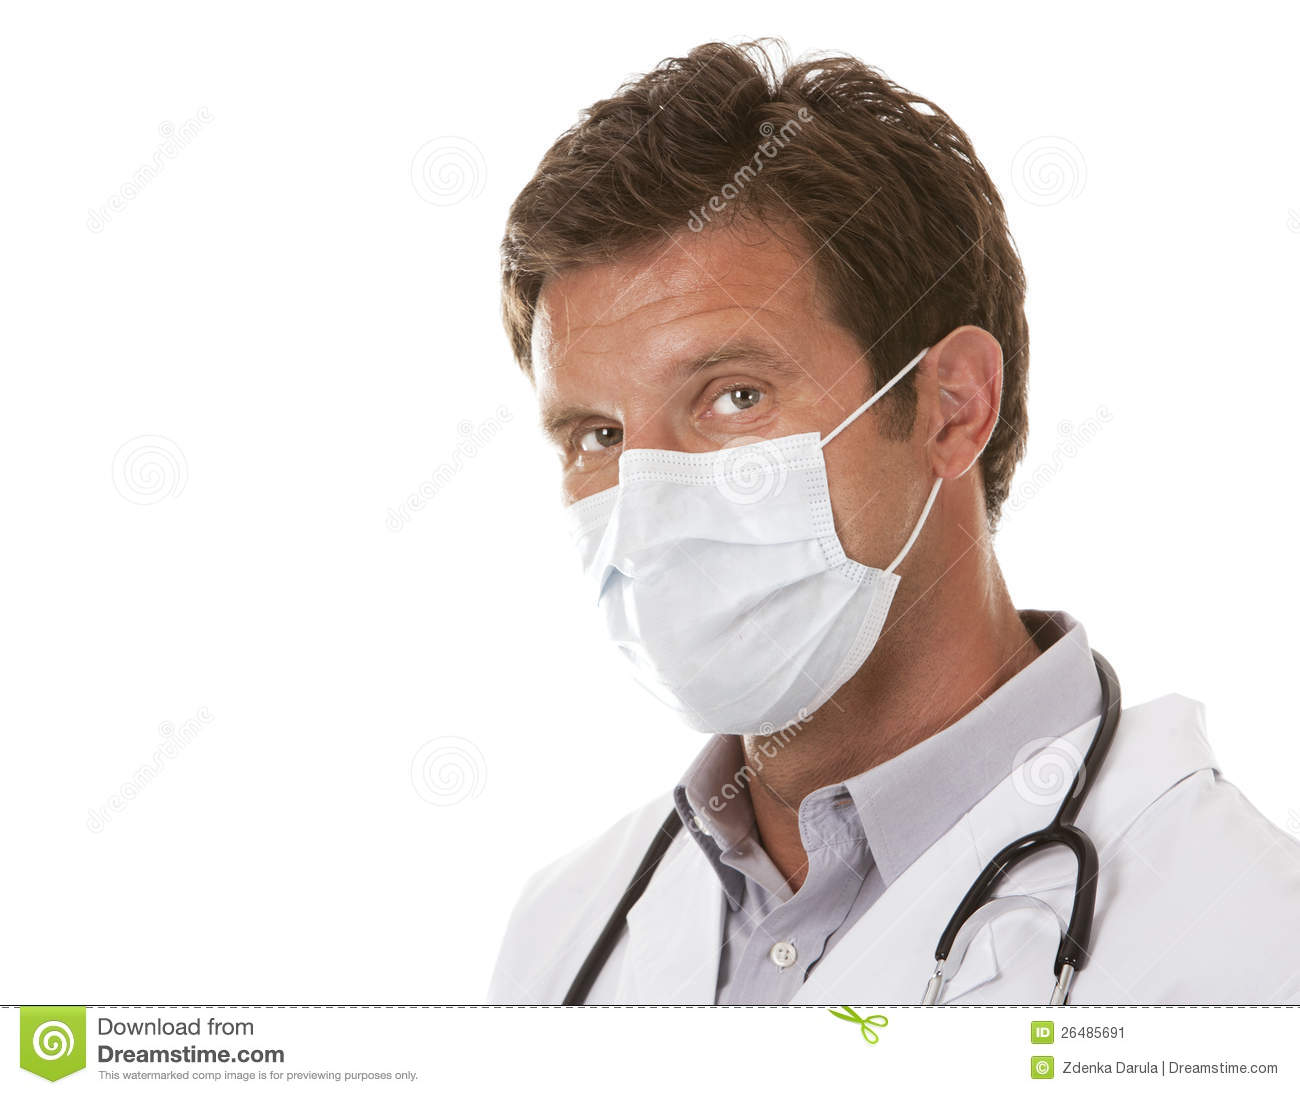mask: (556, 458, 885, 760)
